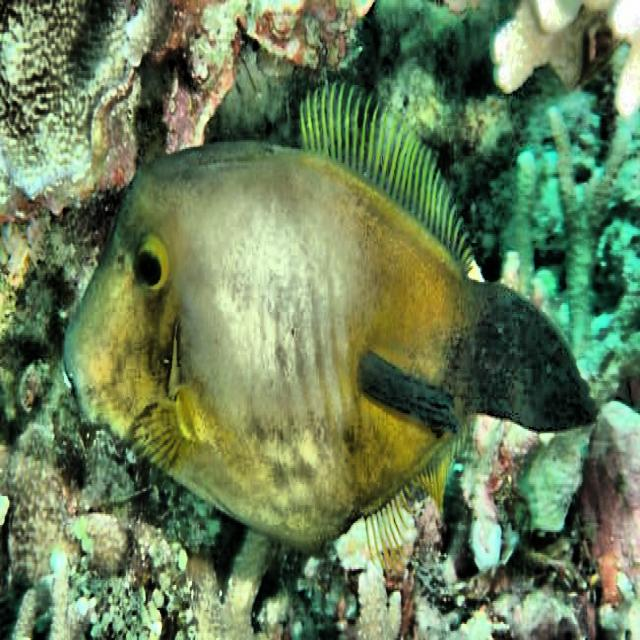fish: (62, 71, 589, 584)
